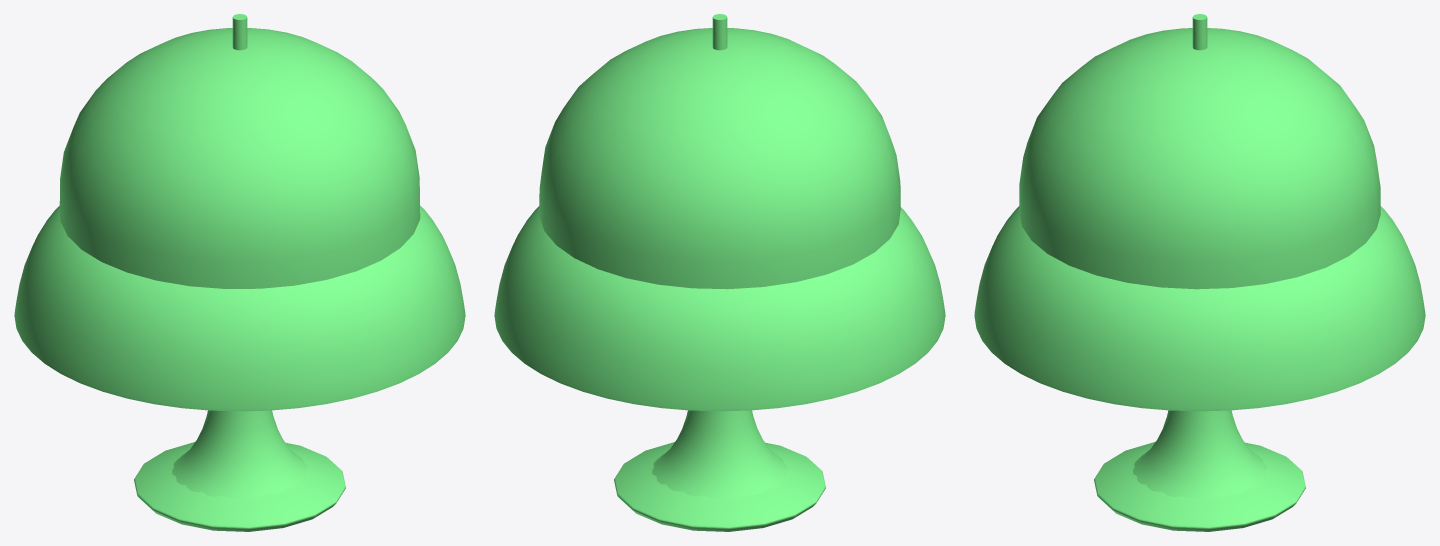
The model's file is LampsLobby.fbx.
3 views of the same model, side by side, from view 1: azimuth 30°, elevation 25°; view 2: azimuth 150°, elevation 25°; view 3: azimuth 270°, elevation 25° (orthographic).
Parts seen in each view (by area): view 1: Lamp007, Lamp1; view 2: Lamp007, Lamp1; view 3: Lamp007, Lamp1.
Part boxes in pixels (x1,y1,x2,y2): Lamp007: (59, 14, 420, 531); Lamp1: (14, 205, 465, 498); Lamp007: (539, 14, 900, 531); Lamp1: (494, 206, 945, 498); Lamp007: (1019, 14, 1380, 531); Lamp1: (974, 206, 1425, 499).
Size of the model in its own units: 0.5686 by 0.6569 by 0.5686.
